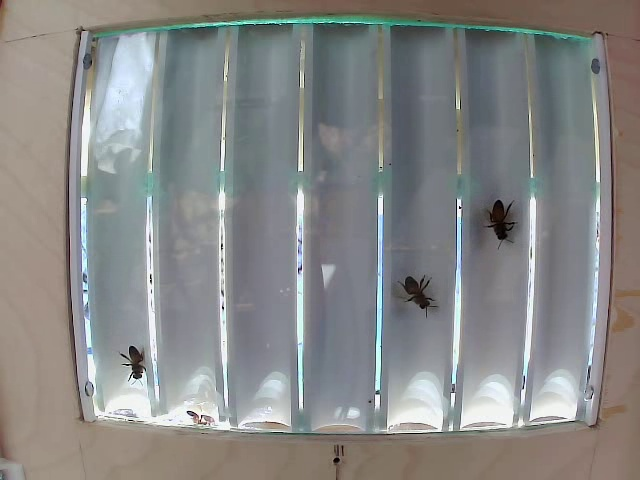bee: (390, 258, 455, 314), (126, 335, 165, 391), (489, 195, 528, 246)
